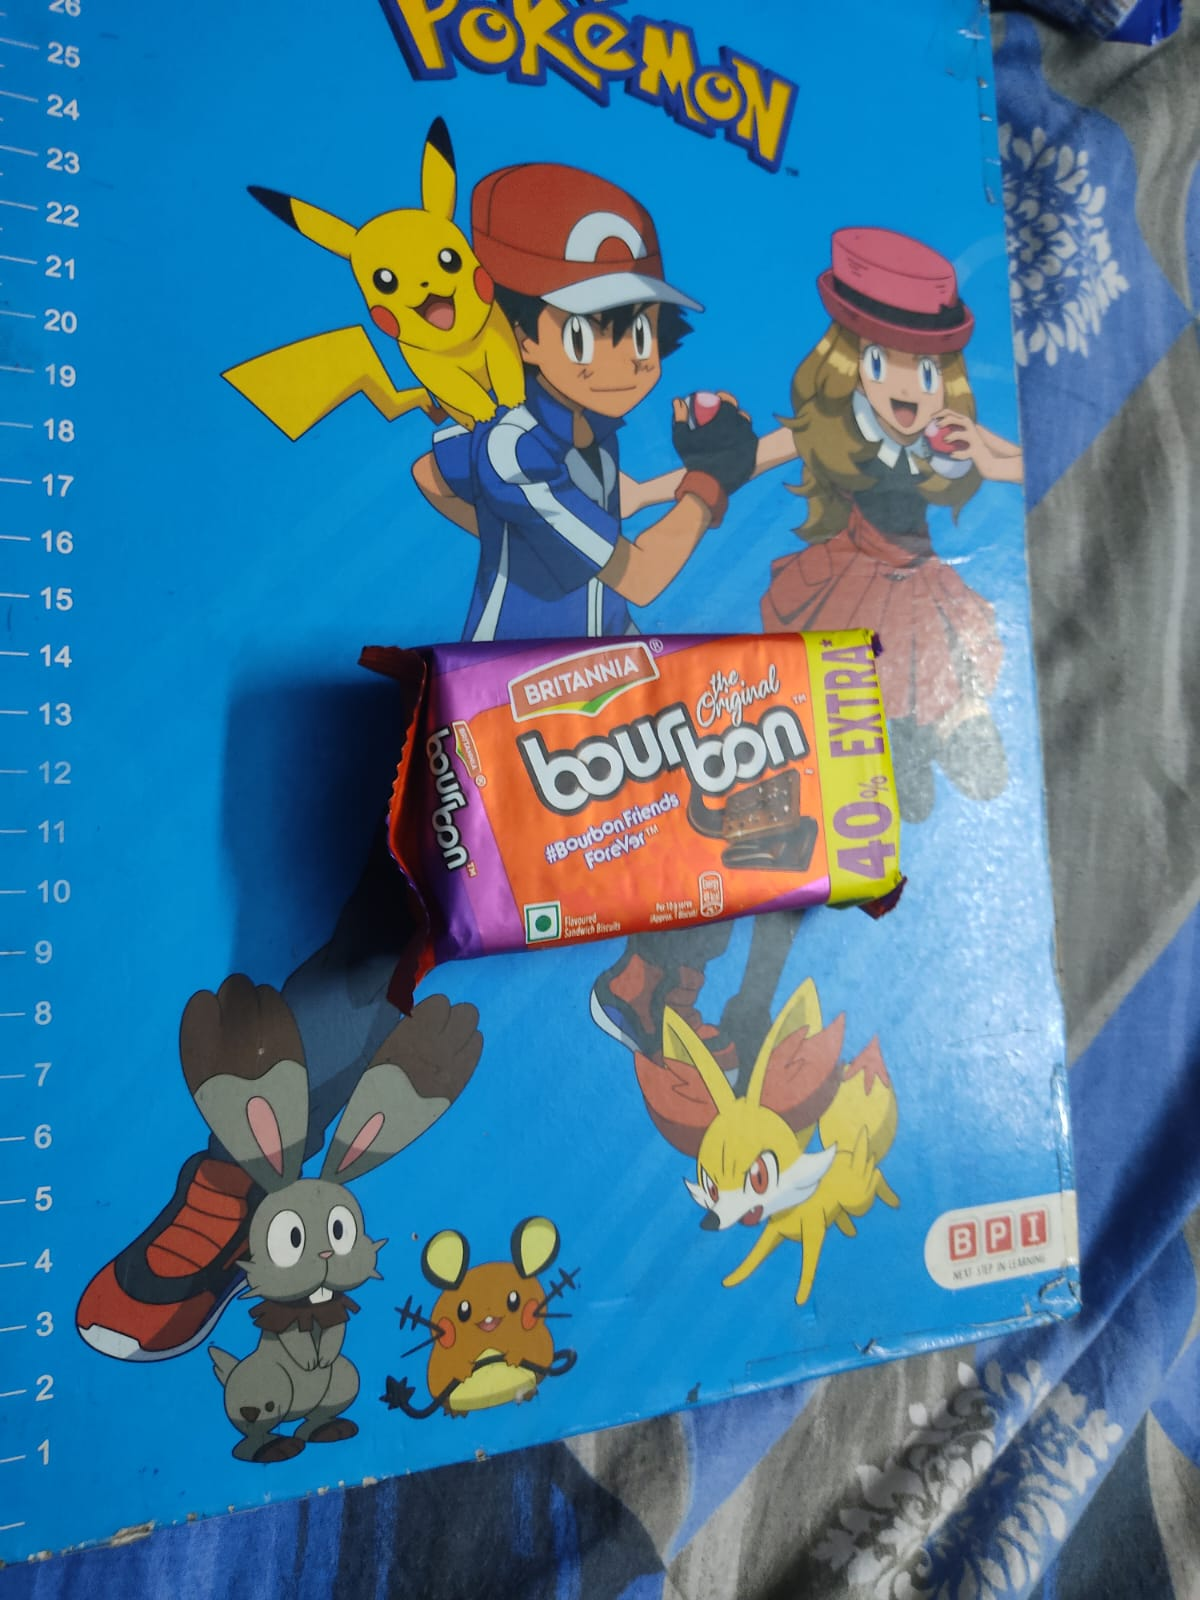010_Bourbon: (413, 632, 904, 956)
